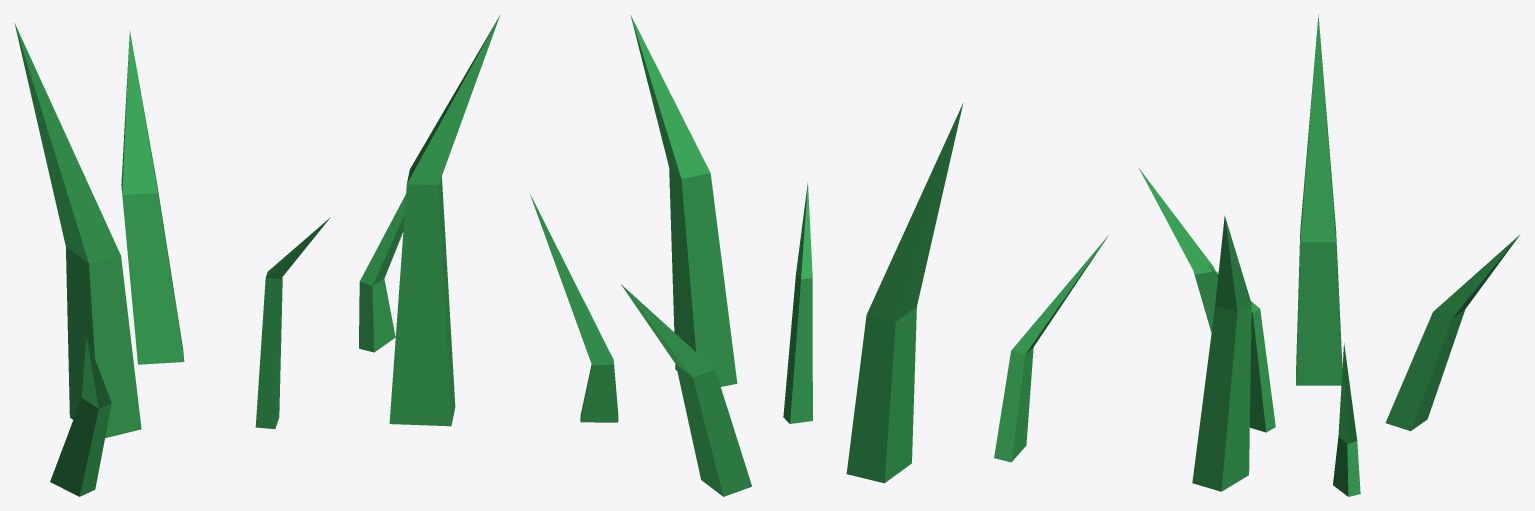
Rendered from cao01.FBX.
The picture shows the model from 3 angles, left to right: view 1: azimuth 30°, elevation 25°; view 2: azimuth 150°, elevation 25°; view 3: azimuth 270°, elevation 25°; orthographic projection. The views are drawn at different scales.
Visible parts, largest first — view 1: cao01; view 2: cao01; view 3: cao01.
Part boxes in pixels (<box>): cao01: <box>14,15,499,496</box>; cao01: <box>530,15,1108,496</box>; cao01: <box>1139,14,1520,496</box>.
Bounding box in the file's own units: 41.83 × 34.21 × 35.47.
